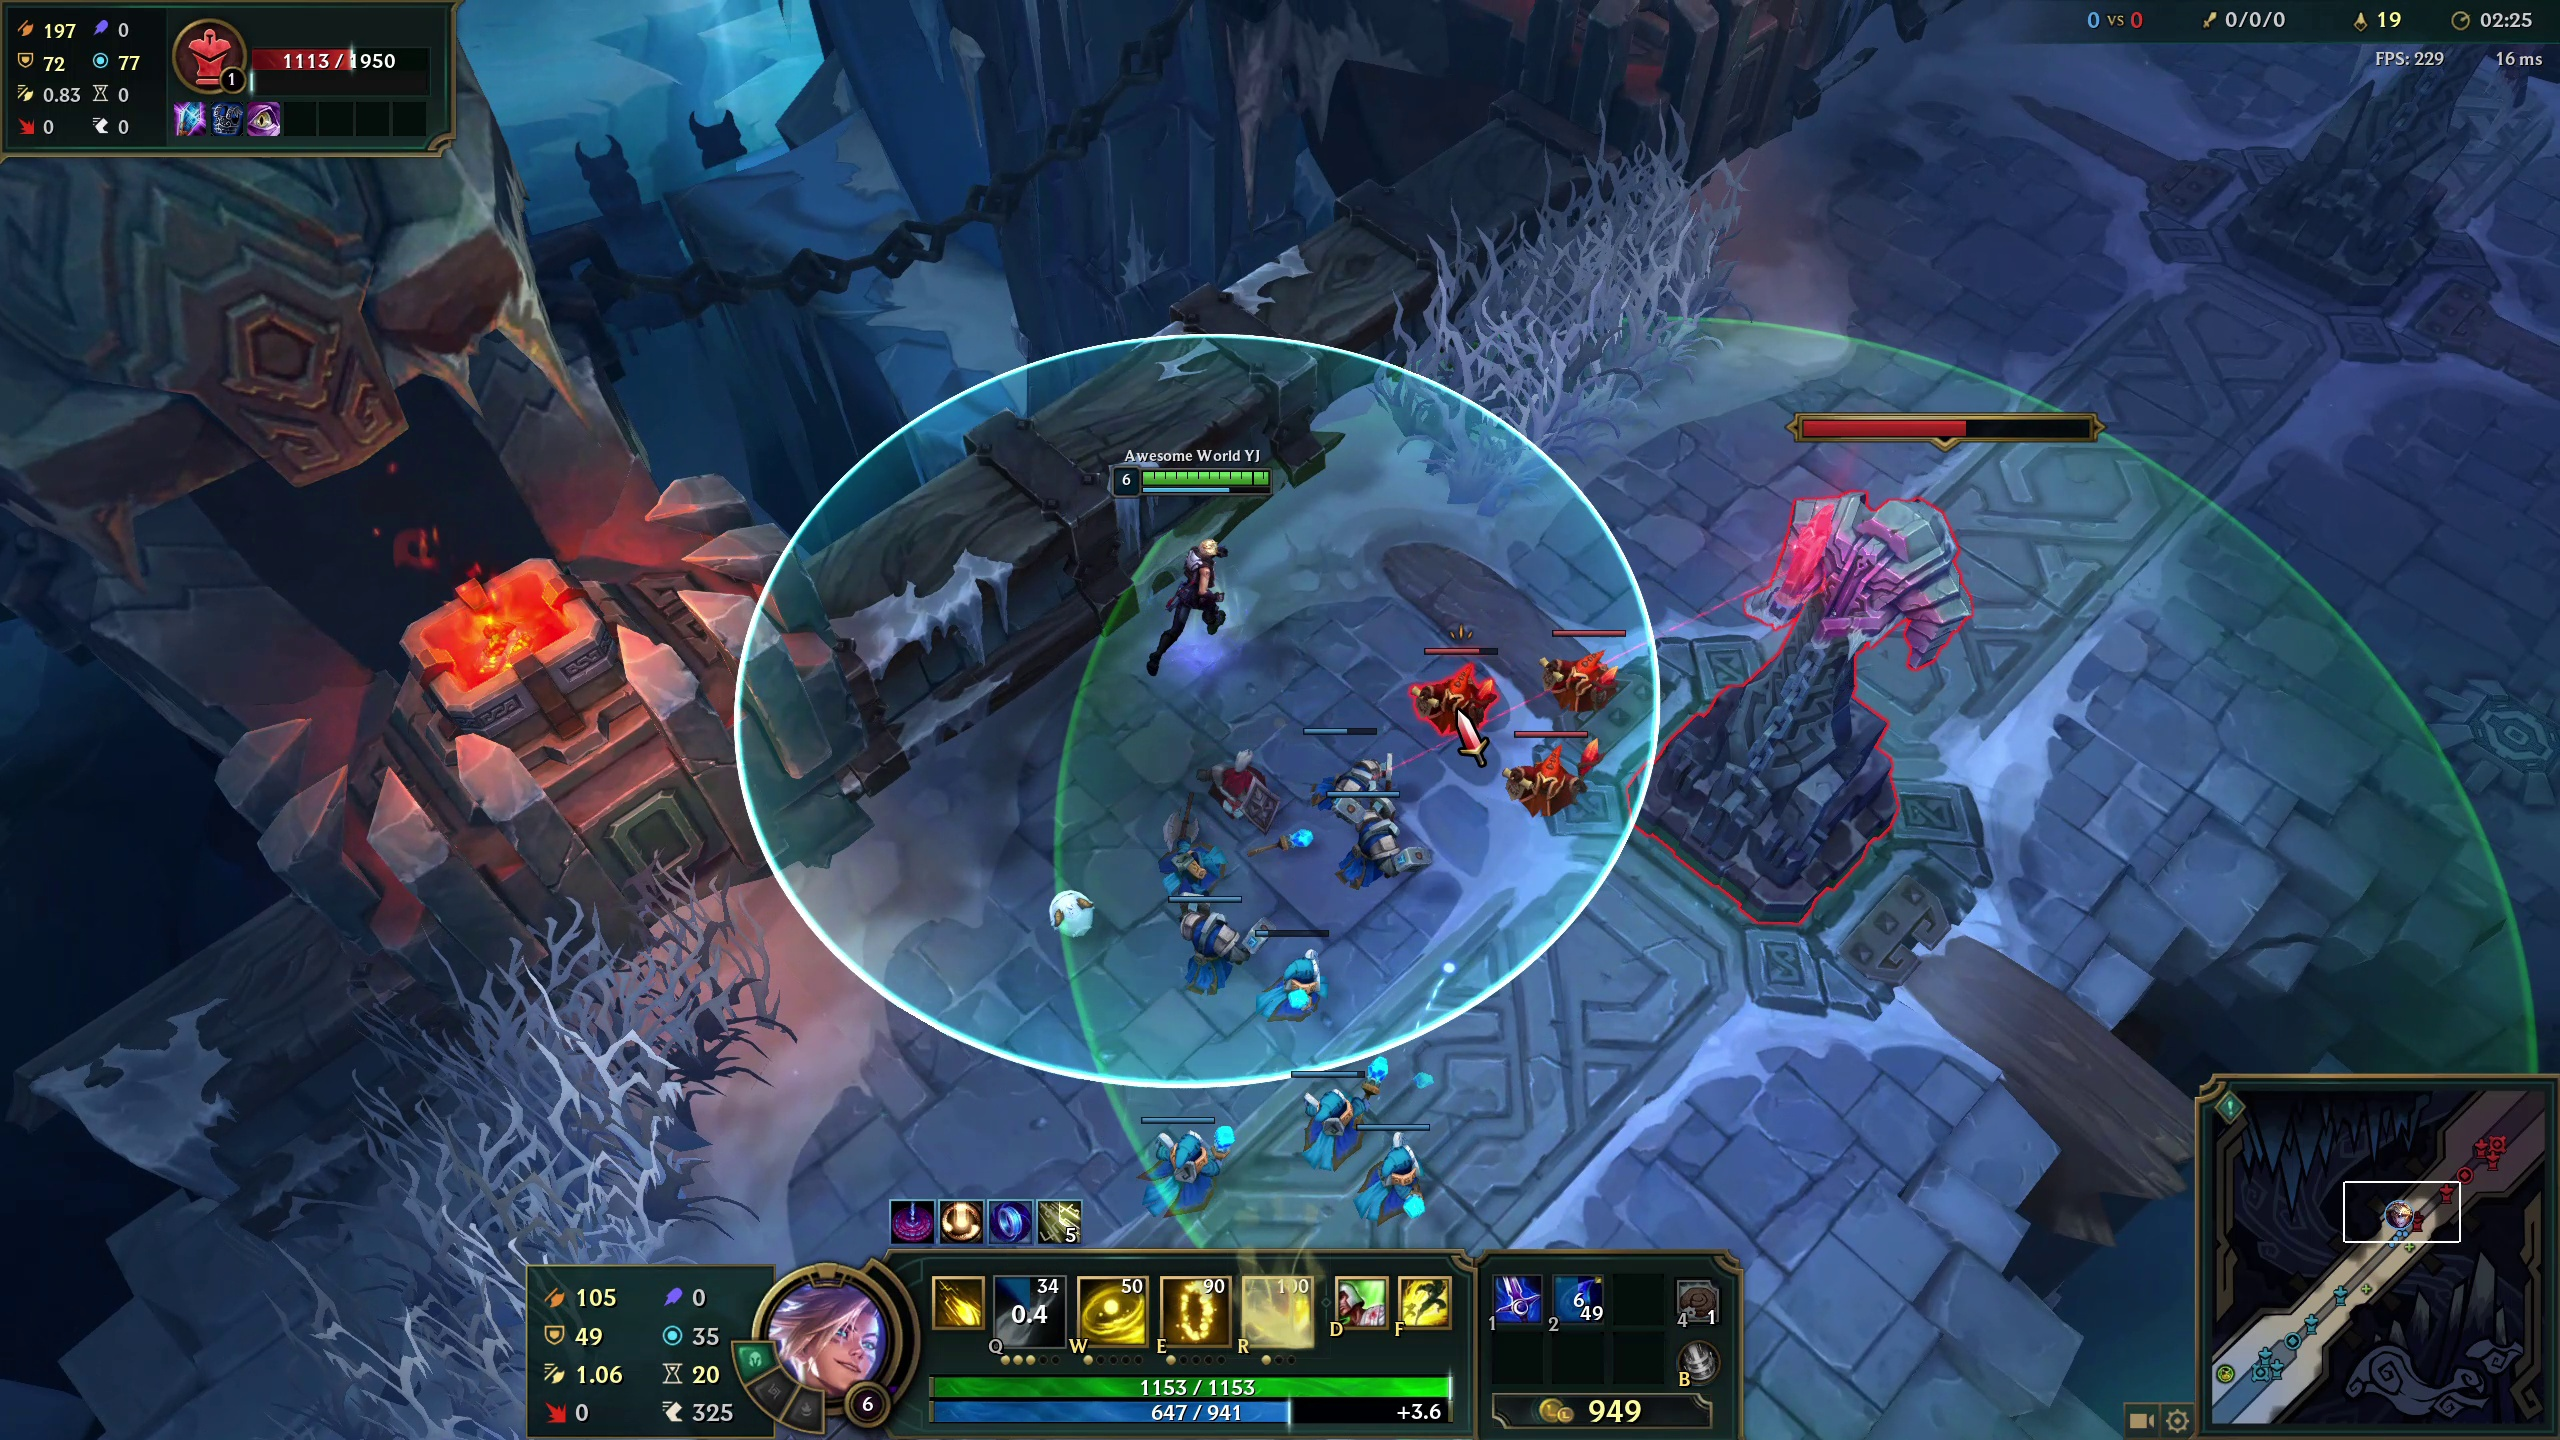EZ: (1118, 459, 1275, 686)
EnemyMinion: (1412, 638, 1500, 740), (1547, 624, 1635, 724), (1512, 712, 1600, 812)
Glass: (464, 971, 721, 1225), (1421, 195, 1681, 404), (301, 1273, 529, 1440)
MyMinion: (1284, 719, 1403, 823), (1122, 1104, 1240, 1208), (1275, 1060, 1393, 1164), (1240, 928, 1357, 1032), (1345, 1122, 1465, 1224), (1308, 789, 1428, 891), (1138, 883, 1255, 985)
Turret: (1681, 485, 1960, 920), (2233, 81, 2507, 299)
